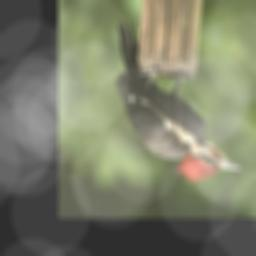Woodpecker: (104, 16, 247, 189)
